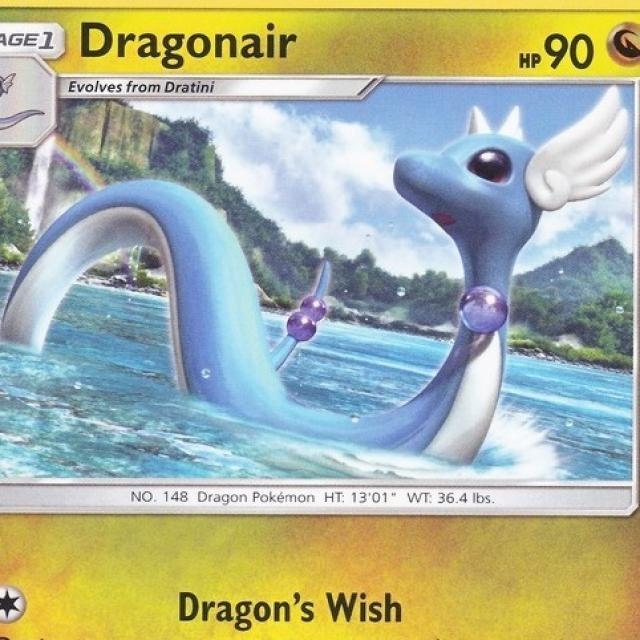Dragonair: (136, 102, 630, 463)
